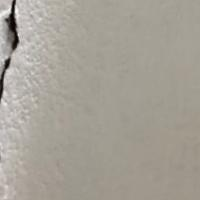crack: (0, 0, 48, 111)
